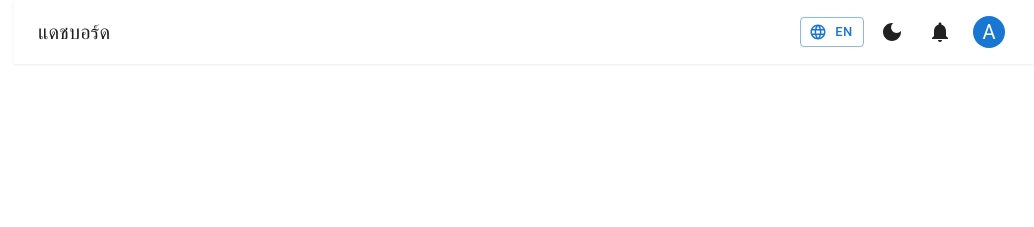
Test: Header › opens menu when avatar is clicked
Click the button "A" at {"x": 989, "y": 32}, box [968,11,1010,53]
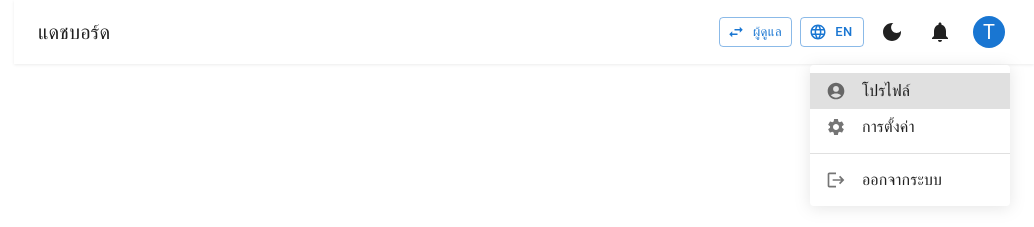
Now the menu item "โปรไฟล์" is shown, box [810,73,1010,109]
Now the menu item "การตั้งค่า" is shown, box [826,117,915,137]
Now the menu item "ออกจากระบบ" is shown, box [826,170,942,190]
